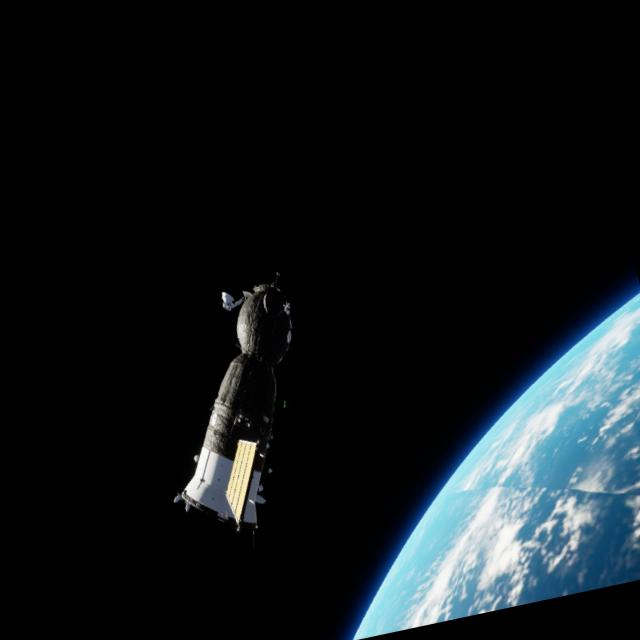Satellites revolving around earth: (128, 266, 338, 552)
